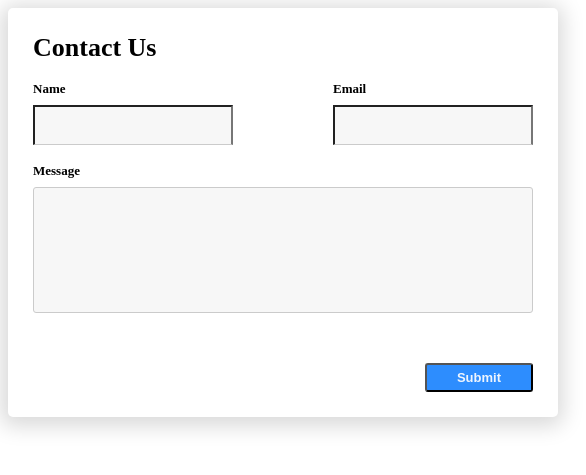
Test: ContactForm › should not submit when email is not valid
Type "Rebel without a cause" into the field labelled "Name" at [133, 125], box [33,105,233,145]
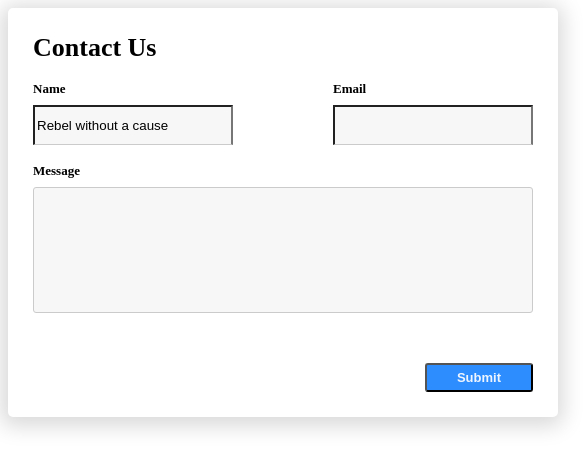
Type "rebel@rebellious" into the field labelled "Email" at [433, 125], box [333,105,533,145]
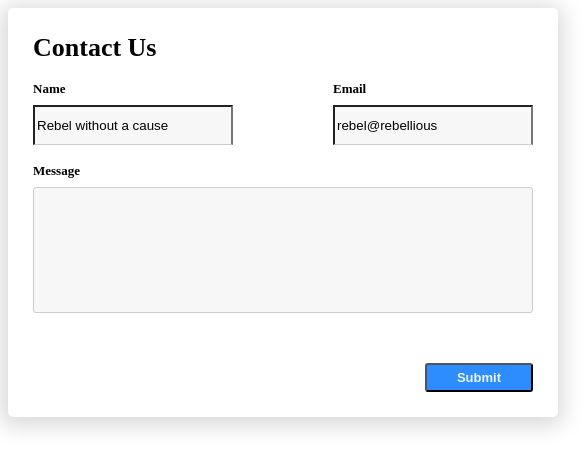
Type "a;dfjklkjlafsd;kjlfasdkdjl;fs" into the text box labelled "Message" at [283, 250], box [33,187,533,313]
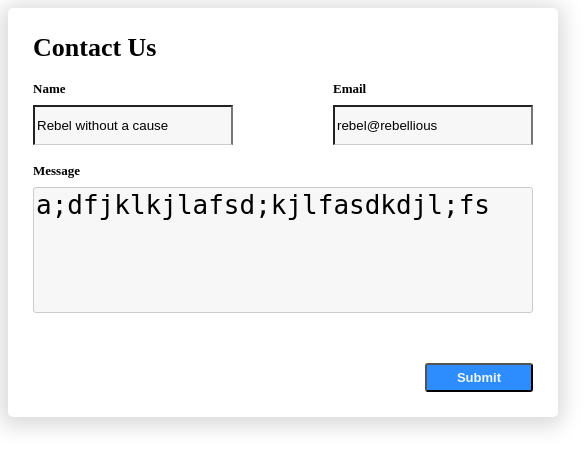
Click the button "Submit" at [479, 378], box [425,363,533,392]
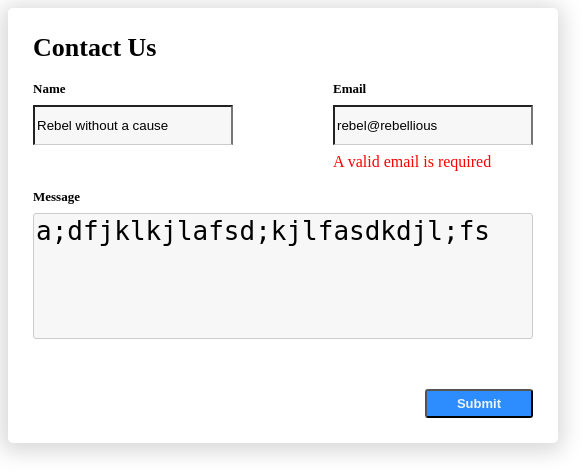
Expected: the text "A valid email is required" is shown, [333,153,491,170]
